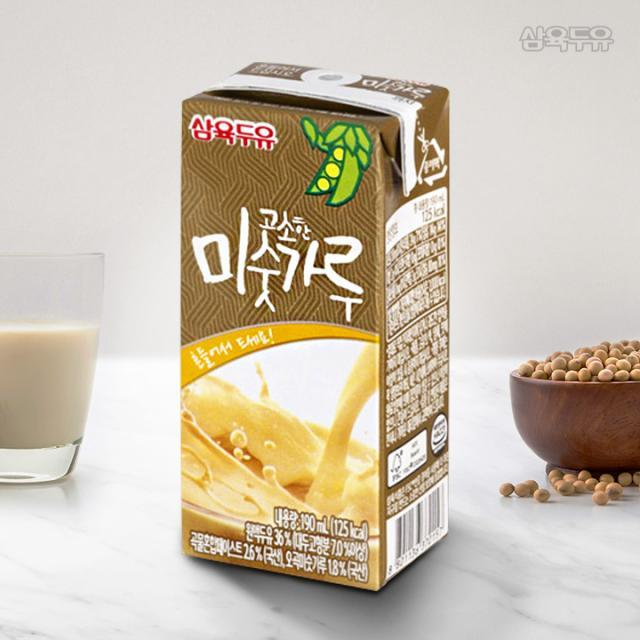Tetra: (165, 48, 464, 601)
